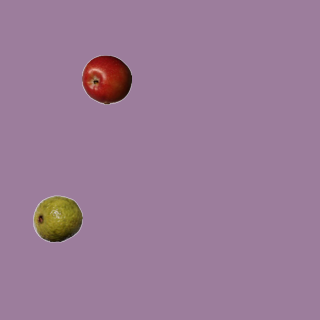Apple Braeburn: (81, 54, 131, 104)
Guava: (32, 193, 82, 243)
